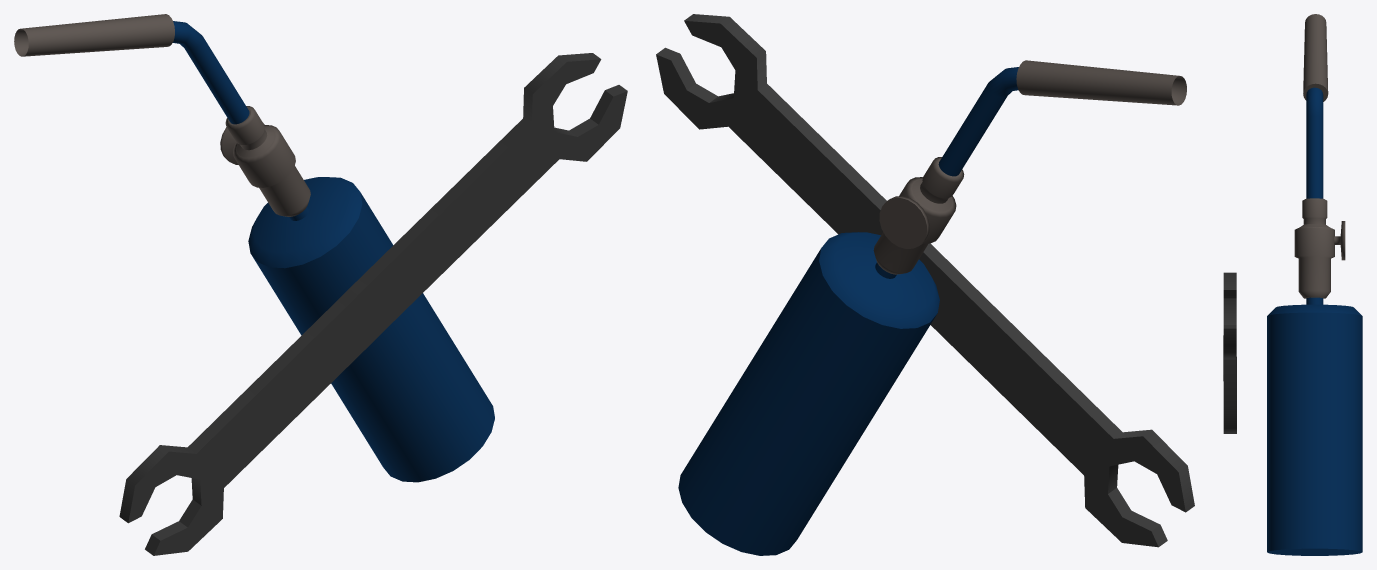
File: Rtool.fbx
3 renders of one model, left to right at view 1: azimuth 30°, elevation 25°; view 2: azimuth 150°, elevation 25°; view 3: azimuth 270°, elevation 25°, orthographic. The views are drawn at different scales.
Parts seen in each view (by area): view 1: pCylinder5, pCube3; view 2: pCylinder5, pCube3; view 3: pCylinder5, pCube3.
Part boxes in pixels (<box>): pCylinder5: <box>14,14,494,482</box>; pCube3: <box>119,53,627,555</box>; pCylinder5: <box>678,60,1186,555</box>; pCube3: <box>656,14,1194,547</box>; pCylinder5: <box>1267,14,1362,555</box>; pCube3: <box>1223,272,1236,433</box>.
Bounding box in the file's own units: 10.03 × 9.38 × 2.91.
